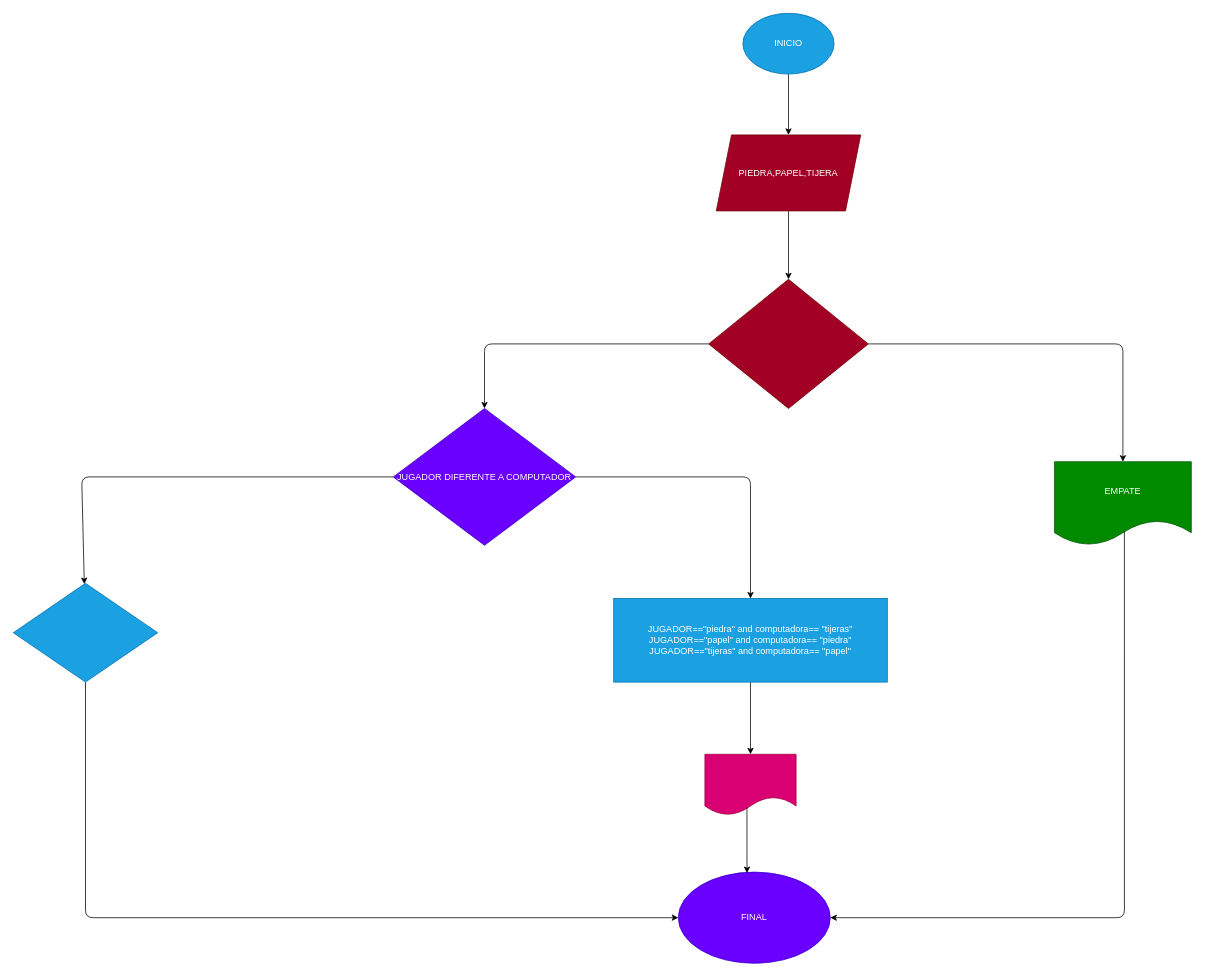
Image size: 1205x977. Some labels were removed from this diagram. The shapes that lost their labels are listed below. From the top down, each one's centre as x and y in pixels, then its label:
pixel 788 343: JUGADOR==COMPUTADDOR
pixel 85 632: PERDISTE
pixel 750 784: GANASTE
